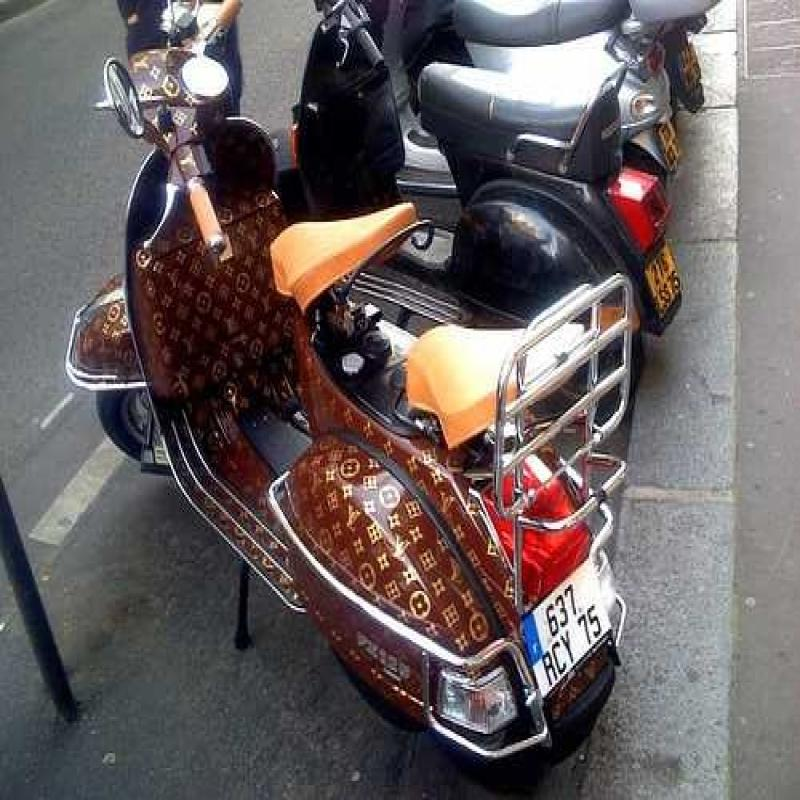bike: (68, 0, 648, 740)
